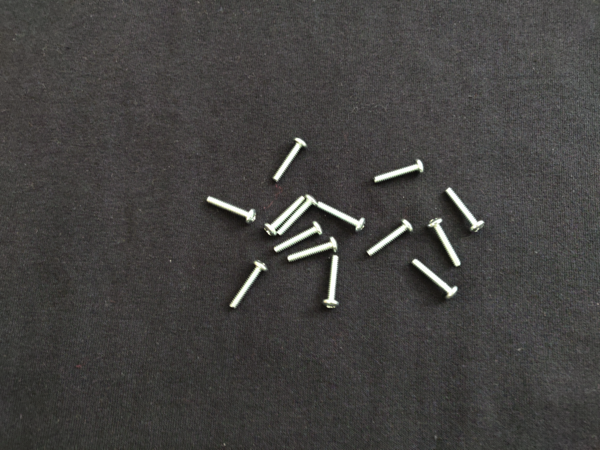longscrew: (409, 257, 461, 302), (442, 186, 487, 236), (424, 217, 465, 269), (227, 259, 268, 311), (365, 218, 414, 259), (262, 195, 307, 238), (276, 193, 318, 238), (271, 137, 309, 186), (272, 221, 325, 255), (316, 200, 368, 234), (203, 194, 259, 225), (286, 235, 340, 265), (372, 159, 426, 186), (321, 254, 343, 312)
